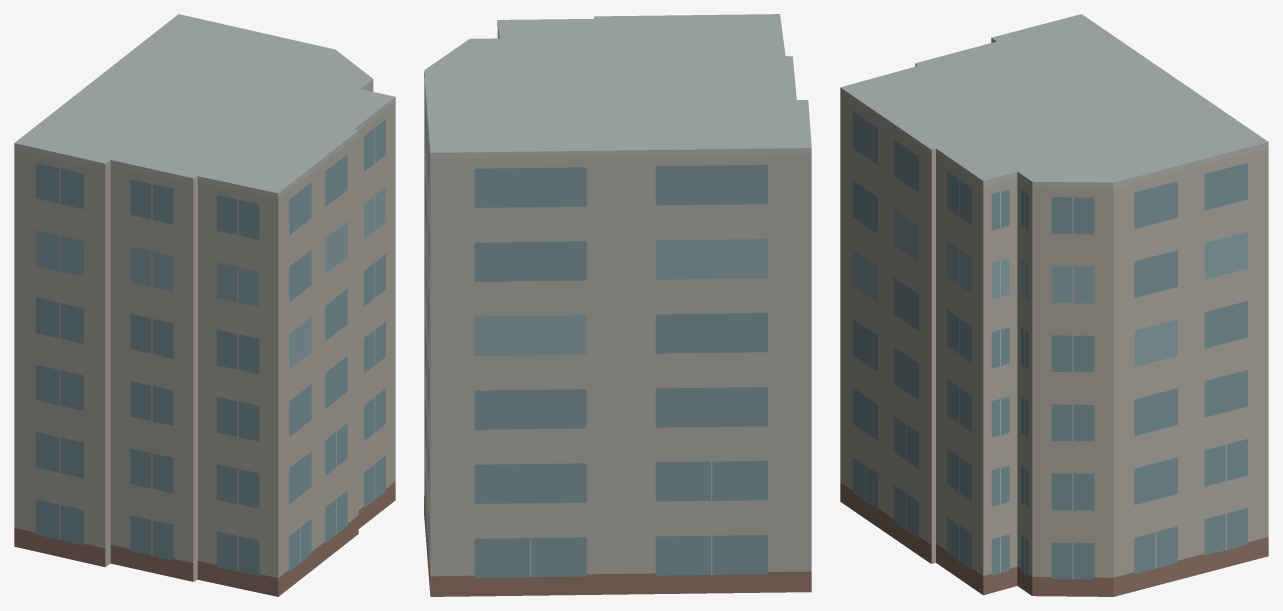
Rendered from survey-upis-32727175.glb.
The picture shows the model from 3 angles, left to right: view 1: azimuth 30°, elevation 25°; view 2: azimuth 150°, elevation 25°; view 3: azimuth 270°, elevation 25°; orthographic projection. The views are drawn at different scales.
Visible parts, largest first — view 1: survey-upis-32727175.tmp; view 2: survey-upis-32727175.tmp; view 3: survey-upis-32727175.tmp.
Part boxes in pixels (left/top/right/bottom): survey-upis-32727175.tmp: left=14, top=14, right=395, bottom=596; survey-upis-32727175.tmp: left=424, top=14, right=811, bottom=596; survey-upis-32727175.tmp: left=840, top=14, right=1268, bottom=596.
Size of the model in its own units: 15.99 by 18.3 by 17.16.
